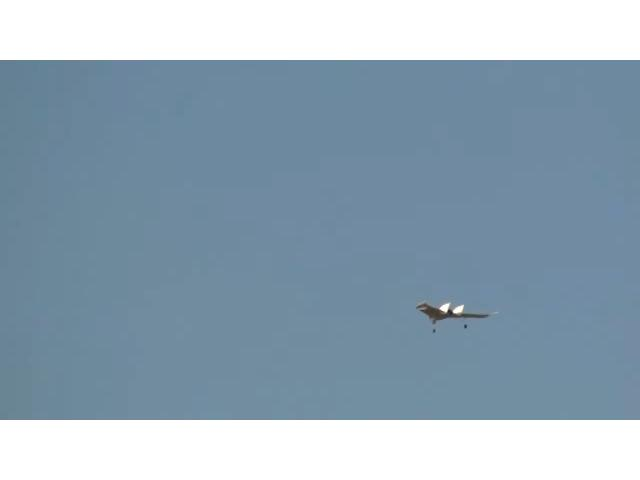Anti-Drone: (416, 302, 496, 322)
